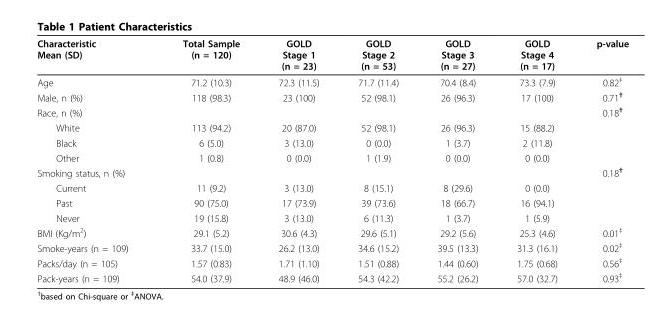table: (36, 37, 628, 283)
table column: (36, 37, 154, 283), (154, 37, 258, 283), (337, 37, 417, 283), (496, 37, 576, 283), (258, 37, 337, 283), (417, 37, 496, 283), (576, 37, 628, 283)
table column header: (36, 37, 628, 73)
table row: (36, 37, 628, 73), (36, 73, 628, 89), (36, 119, 628, 135), (36, 164, 628, 180), (36, 89, 628, 104), (36, 104, 628, 119), (36, 135, 628, 150), (36, 180, 628, 195), (36, 195, 628, 210), (36, 224, 628, 239), (36, 239, 628, 254), (36, 254, 628, 269), (36, 150, 628, 164), (36, 210, 628, 224), (36, 269, 628, 283)
